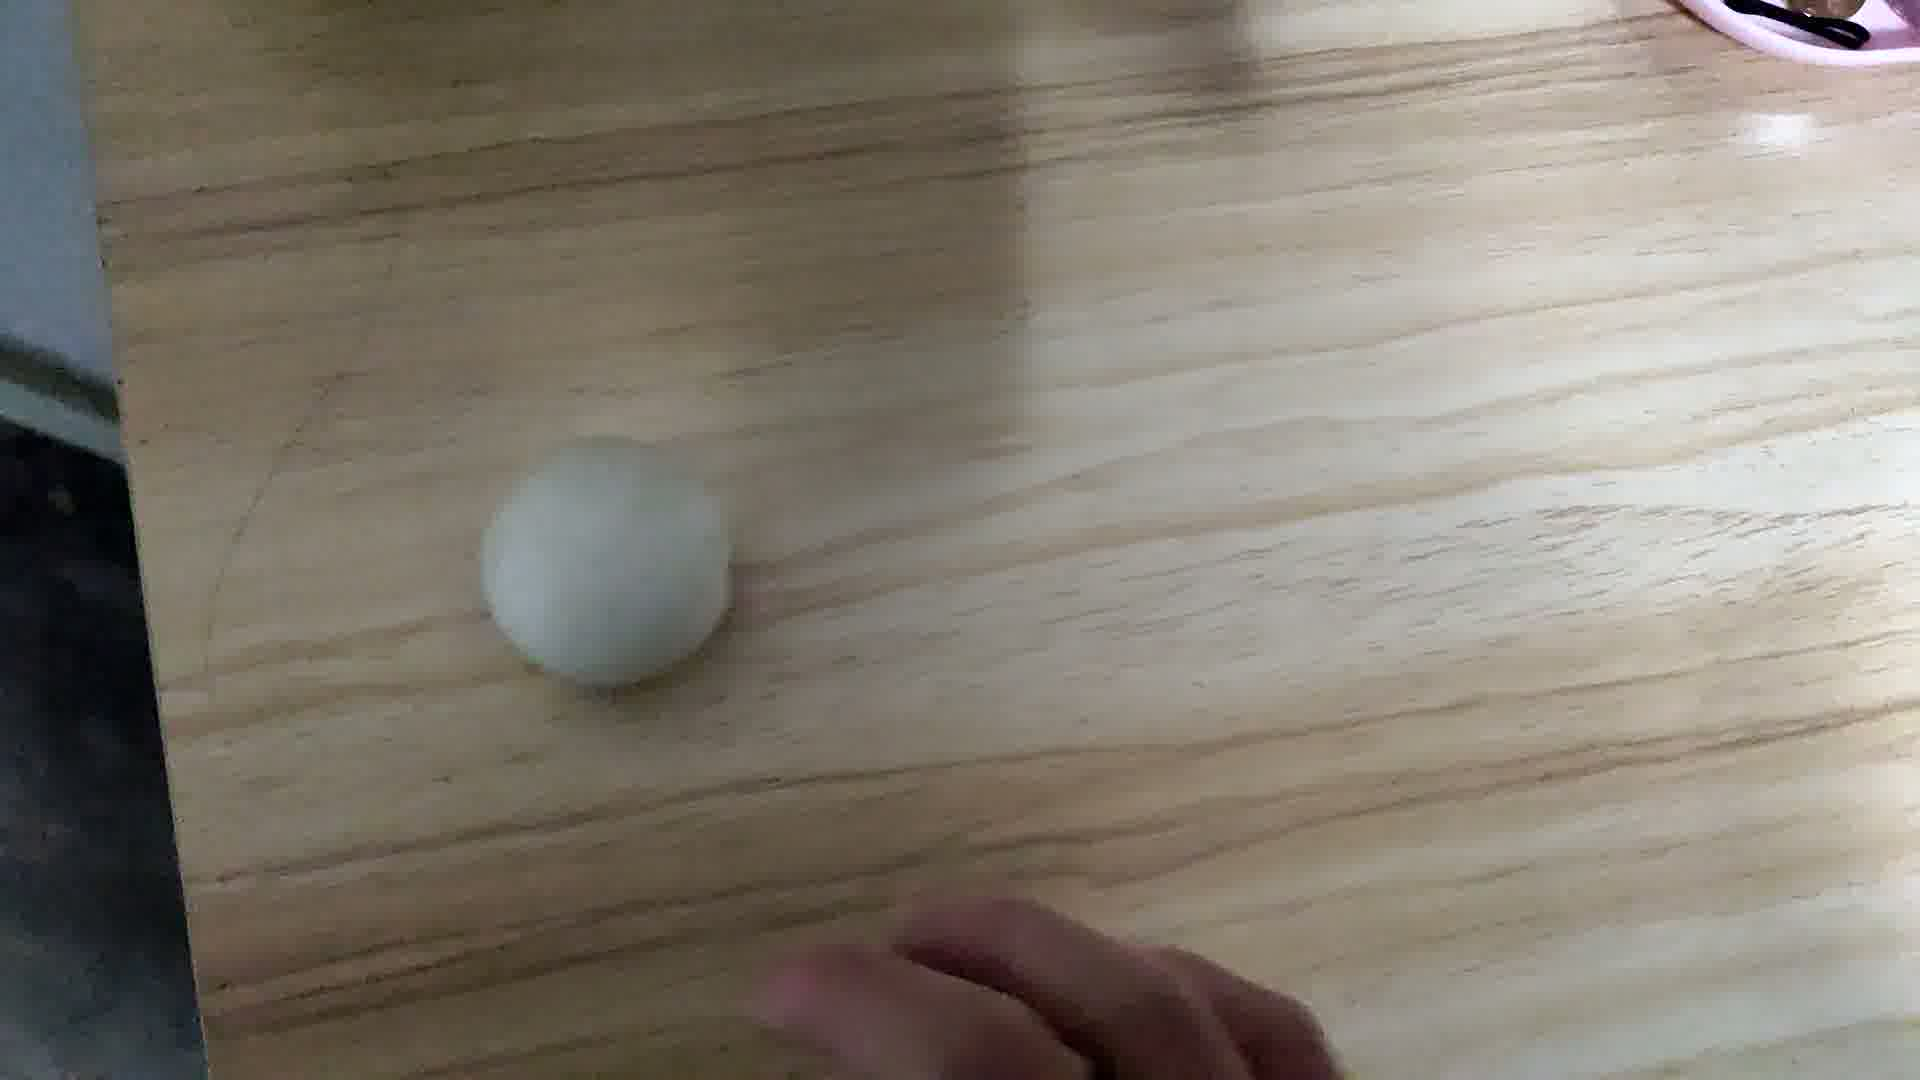Ball: (480, 436, 735, 692)
